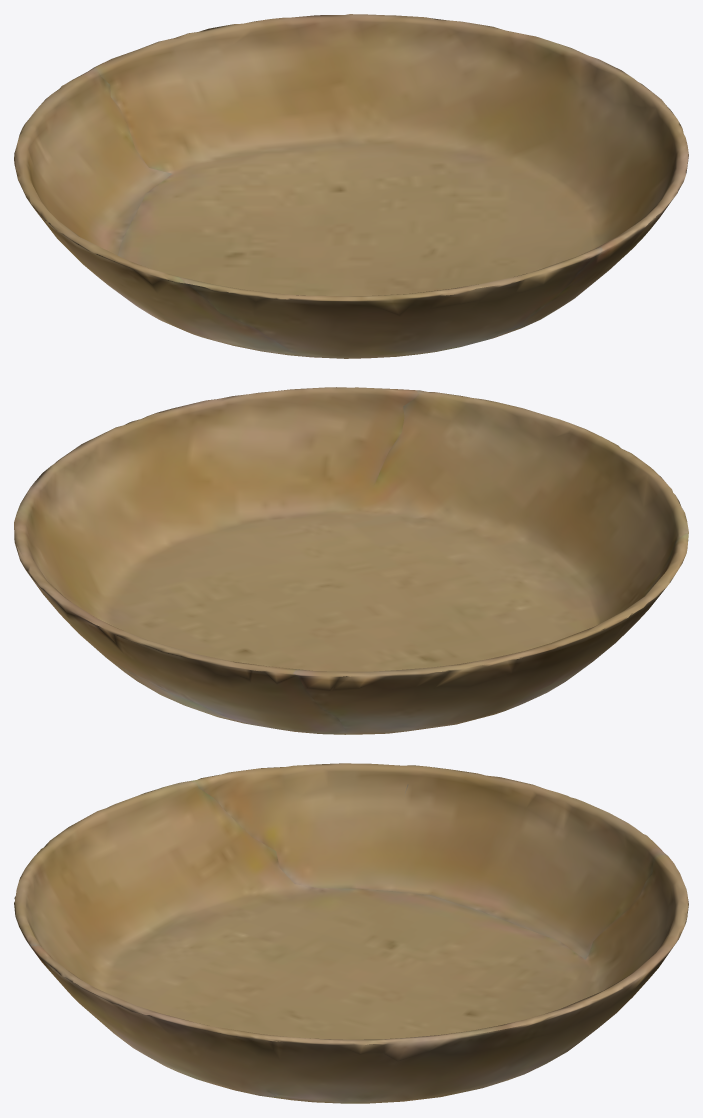
File: Ecoforms_Plant_Saucer_S14NATURAL-high.glb
3 views of the same model, one above another, from view 1: azimuth 30°, elevation 25°; view 2: azimuth 150°, elevation 25°; view 3: azimuth 270°, elevation 25° (orthographic).
Visible parts, largest first — view 1: Ecoforms_Plant_Saucer_S14NATURAL; view 2: Ecoforms_Plant_Saucer_S14NATURAL; view 3: Ecoforms_Plant_Saucer_S14NATURAL.
Part boxes in pixels (x1,y1,x2,y2): Ecoforms_Plant_Saucer_S14NATURAL: (14, 14, 688, 358); Ecoforms_Plant_Saucer_S14NATURAL: (14, 387, 688, 734); Ecoforms_Plant_Saucer_S14NATURAL: (14, 763, 688, 1103).
Size of the model in its own units: 0.1476 by 0.0261 by 0.1475.
1 material, 1 textured.
